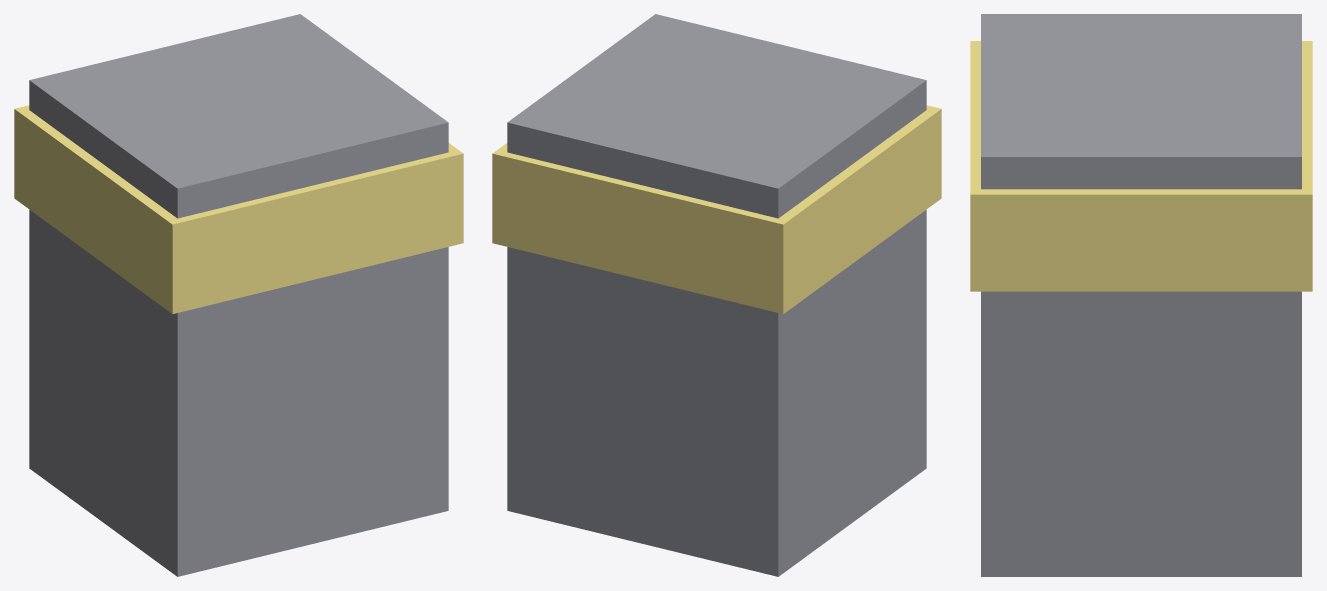
File: intake_01_lo2.glb
3 views of the same model, side by side, from view 1: azimuth 30°, elevation 25°; view 2: azimuth 150°, elevation 25°; view 3: azimuth 270°, elevation 25° (orthographic). The views are drawn at different scales.
Visible parts, largest first — view 1: intake_01_lo2; view 2: intake_01_lo2; view 3: intake_01_lo2.
Boxes of the visible parts, x1,y1,x2,y2 form: intake_01_lo2: (14, 14, 463, 576); intake_01_lo2: (492, 14, 941, 576); intake_01_lo2: (970, 14, 1312, 576).
Size of the model in its own units: 1.02 by 1.3 by 0.96.
